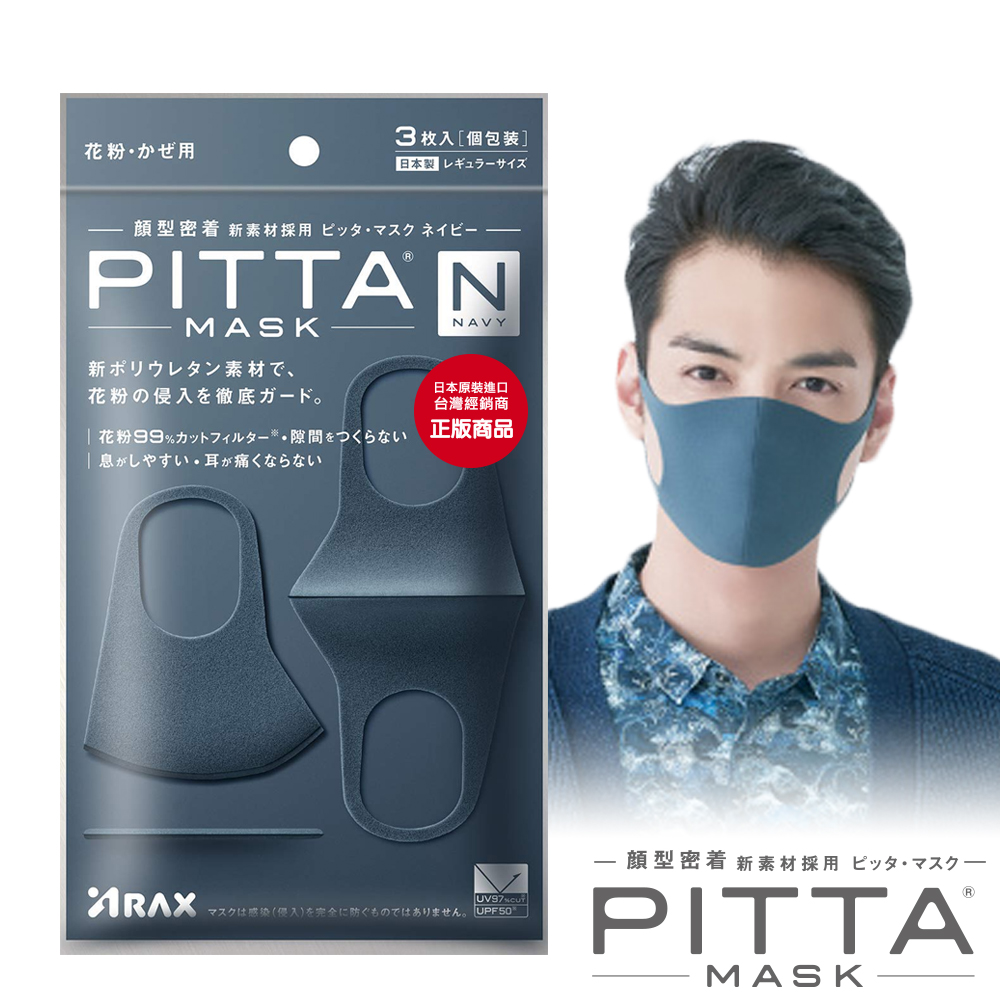Mask: (630, 230, 884, 568)
